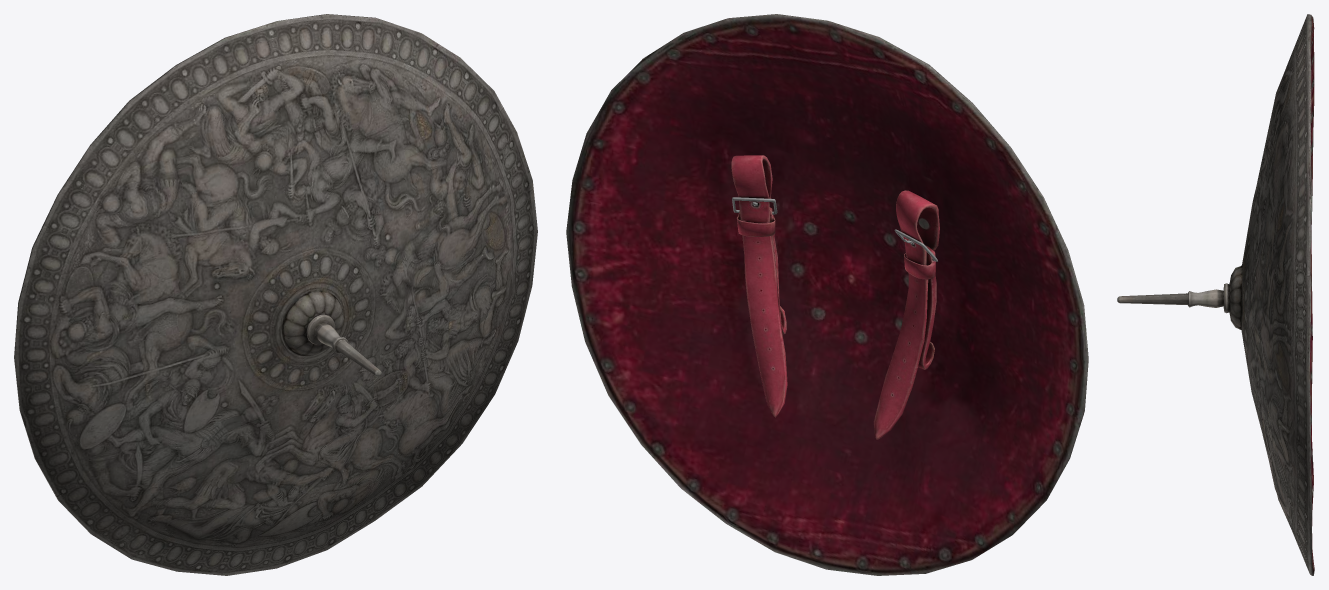
The model's file is role-shield.draco.glb.
3 views of the same model, side by side, from view 1: azimuth 30°, elevation 25°; view 2: azimuth 150°, elevation 25°; view 3: azimuth 270°, elevation 25° (orthographic). The views are drawn at different scales.
Visible parts, largest first — view 1: Shield; view 2: Shield; view 3: Shield.
Part boxes in pixels (<box>): Shield: <box>14,14,537,575</box>; Shield: <box>566,14,1088,575</box>; Shield: <box>1117,14,1314,575</box>.
Size of the model in its own units: 0.6985 by 0.7 by 0.2455.
1 material, 1 textured.
